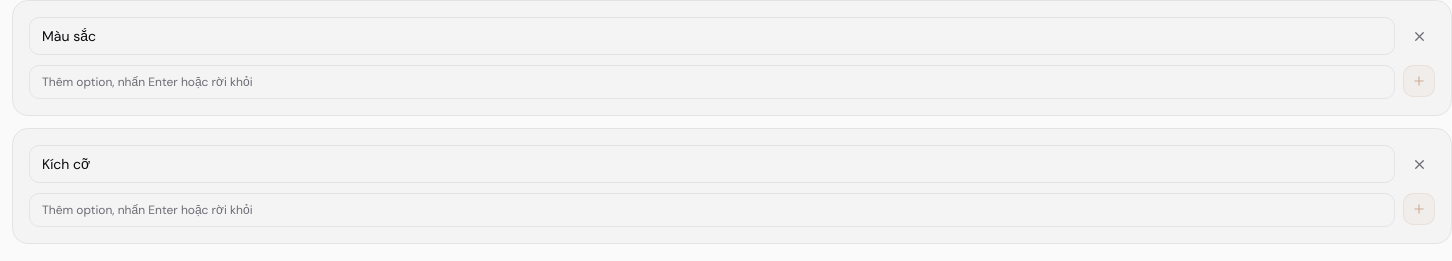
it: VariationBuilder — stable id keys (perf-scan correctness gap) › removing an earlier group does not leak its row's draft onto the sibling
Type "sticky-draft" into the 1st field with placeholder "Thêm option, nhấn Enter hoặc rời khỏi" at (712, 82), box [29, 65, 1395, 99]
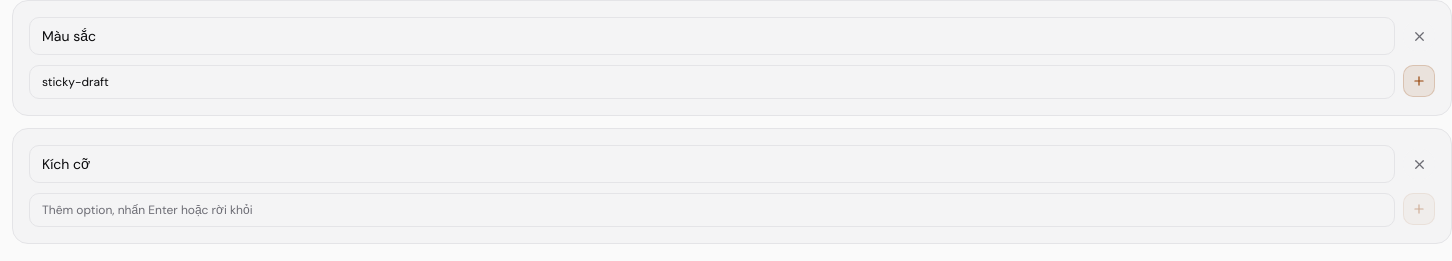
Click the button named "Xóa nhóm Màu sắc" at (1419, 36), box [1403, 20, 1435, 52]
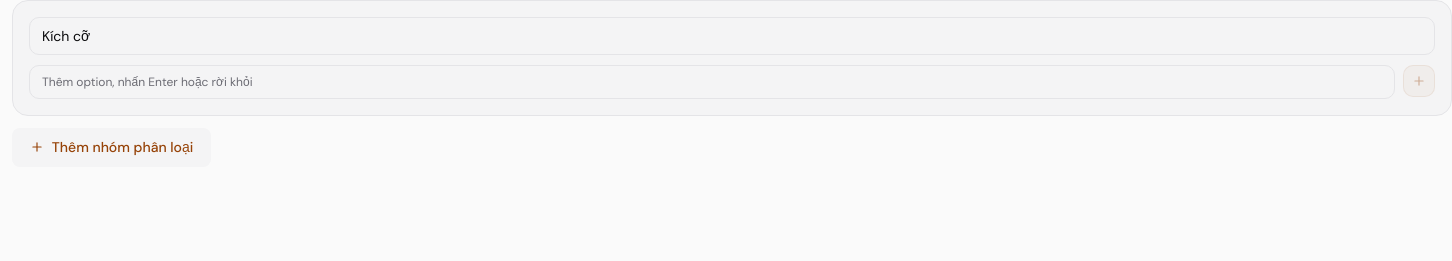
Expected: the field with placeholder "Nhóm 1 (VD: Màu sắc)" holds "Kích cỡ", [29, 17, 1435, 55]
Result: the number of fields with placeholder "Thêm option, nhấn Enter hoặc rời khỏi" is 1 at [29, 65, 1395, 99]
